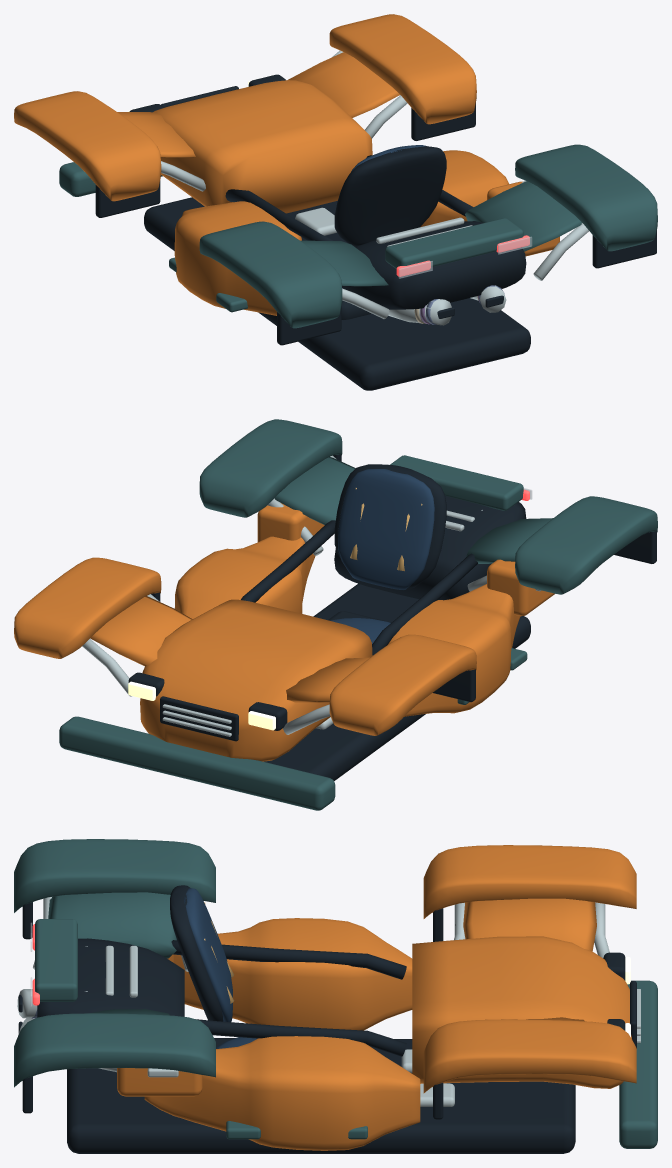
File: werkmeister.glb
3 renders of one model, top to bottom at view 1: azimuth 30°, elevation 25°; view 2: azimuth 150°, elevation 25°; view 3: azimuth 270°, elevation 25°, orthographic. The views are drawn at different scales.
Parts seen in each view (by area): view 1: LOD0, ShowroomDetail; view 2: LOD0; view 3: LOD0.
Part boxes in pixels (x1,y1,x2,y2): LOD0: [14, 14, 657, 390]; ShowroomDetail: [398, 236, 532, 324]; LOD0: [14, 419, 657, 810]; LOD0: [14, 839, 657, 1153].
Size of what is drawn, in the model's own units: 1.88 by 0.868 by 2.4.
